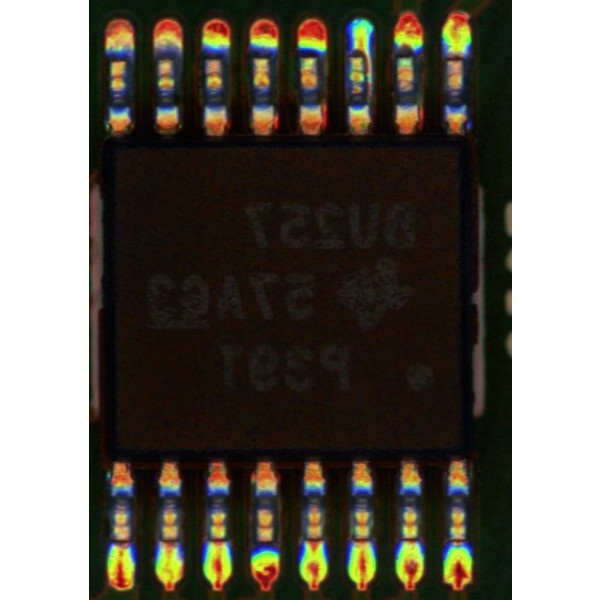Bad_podu: (165, 524, 177, 558), (213, 527, 224, 558), (115, 532, 126, 560), (309, 527, 320, 555), (356, 527, 368, 552)
Bad_qiaojiao: (365, 57, 372, 103)
